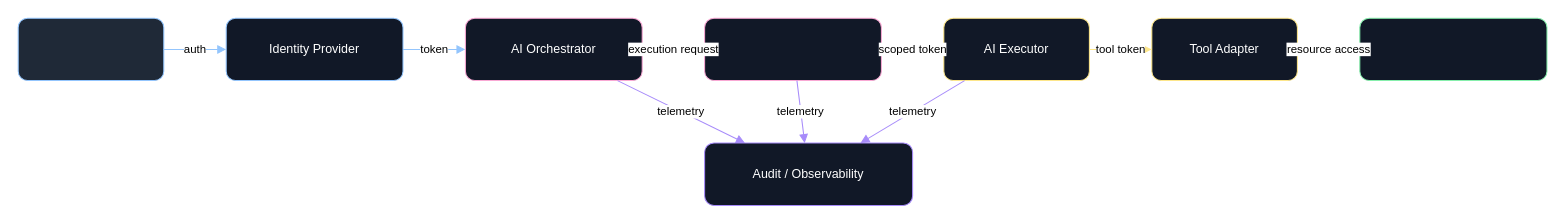
The diagram is 1565 pixels wide and 224 high, and some of its shapes have lost their labels. The shapes that lost their labels are listed below. From the top down, each one's box as (x1, y1, x2, y2) in pixels, then its label:
(17, 17, 164, 81): User
(704, 17, 881, 81): AI Agent Gateway
(1359, 17, 1547, 81): Enterprise Resource
